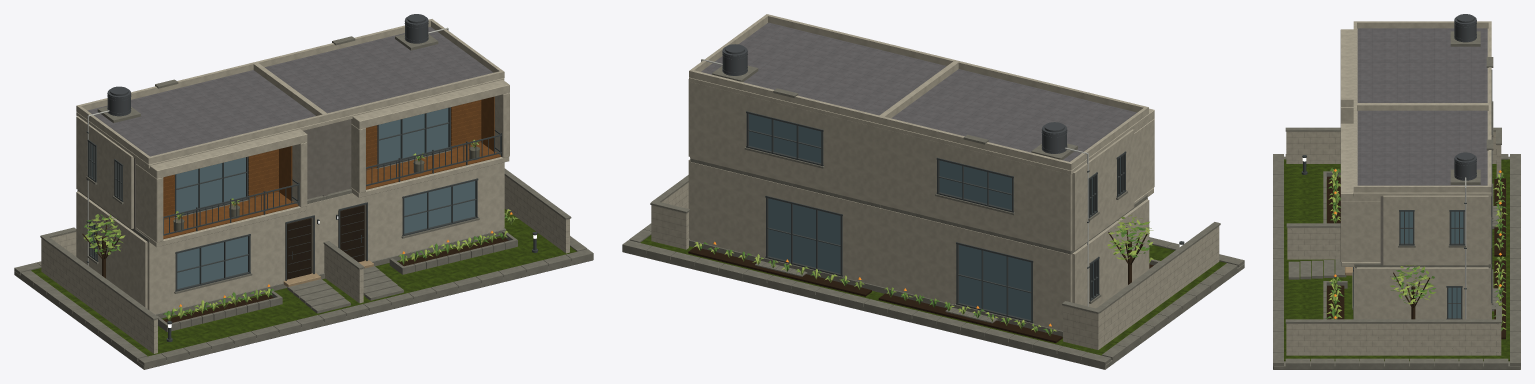
The model's file is duplex.fbx.
3 renders of one model, left to right at view 1: azimuth 30°, elevation 25°; view 2: azimuth 150°, elevation 25°; view 3: azimuth 270°, elevation 25°, orthographic. The views are drawn at different scales.
Parts seen in each view (by area): view 1: Duplex_03; view 2: Duplex_03; view 3: Duplex_03.
Part boxes in pixels (x1,y1,x2,y2): Duplex_03: [14, 14, 593, 369]; Duplex_03: [622, 14, 1244, 369]; Duplex_03: [1273, 14, 1520, 369].
Bounding box in the file's own units: 2000 × 796 × 1000.
23 materials, 13 textured.
